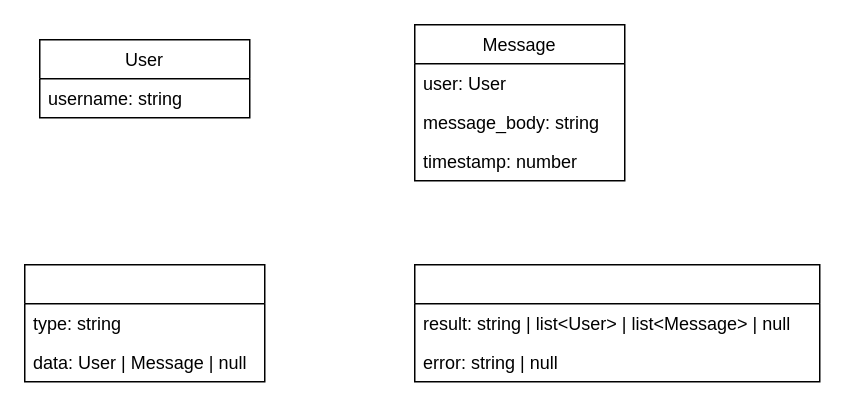
Image size: 845x407. Some labels were removed from this diagram. Here are the shapes that lost their labels. From the top down, the box of each, then its label:
(23, 263, 265, 382): Command
(413, 263, 820, 382): CommandResult
